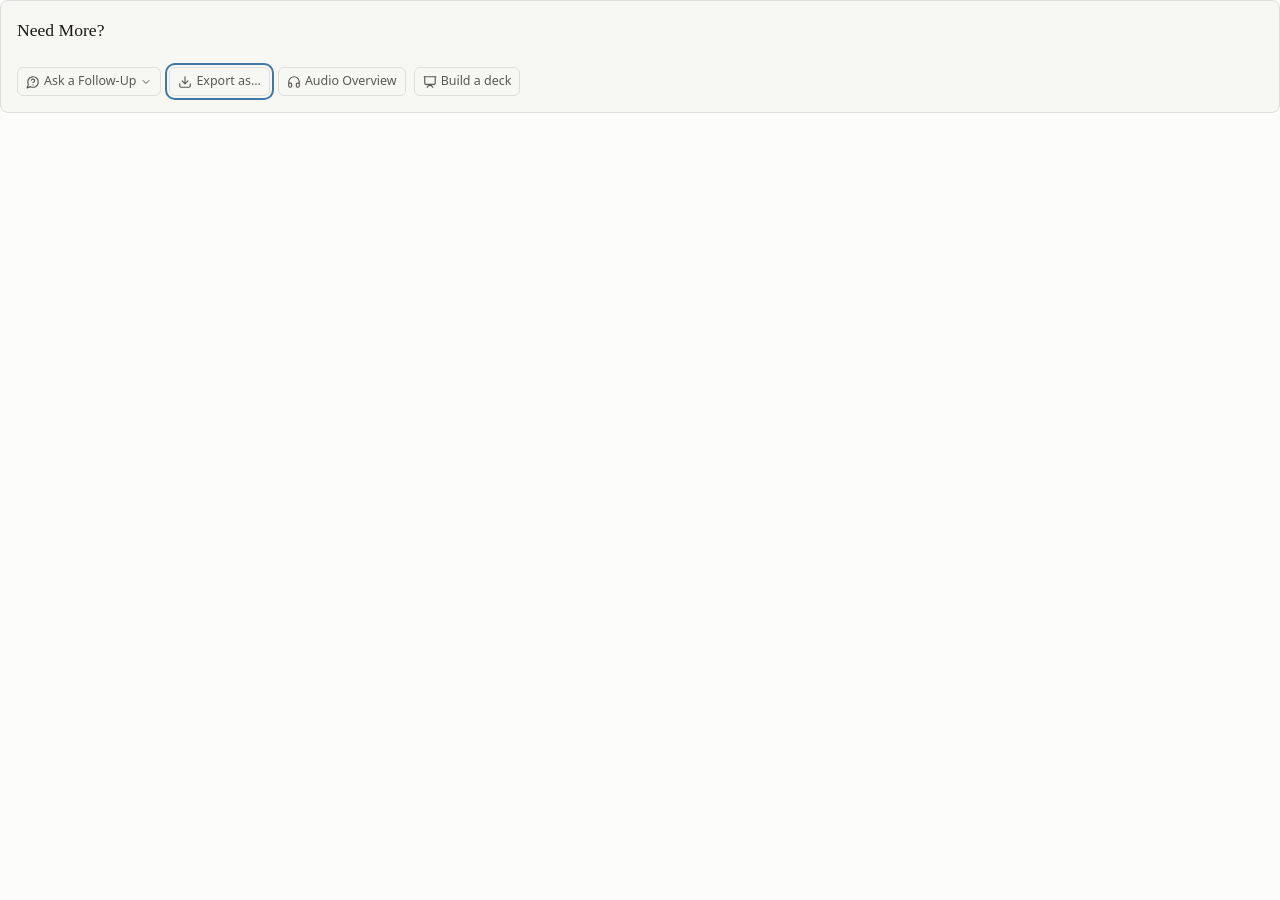
Test: ExportFocus › PDF capability on keeps template picker and opener return
Press Enter
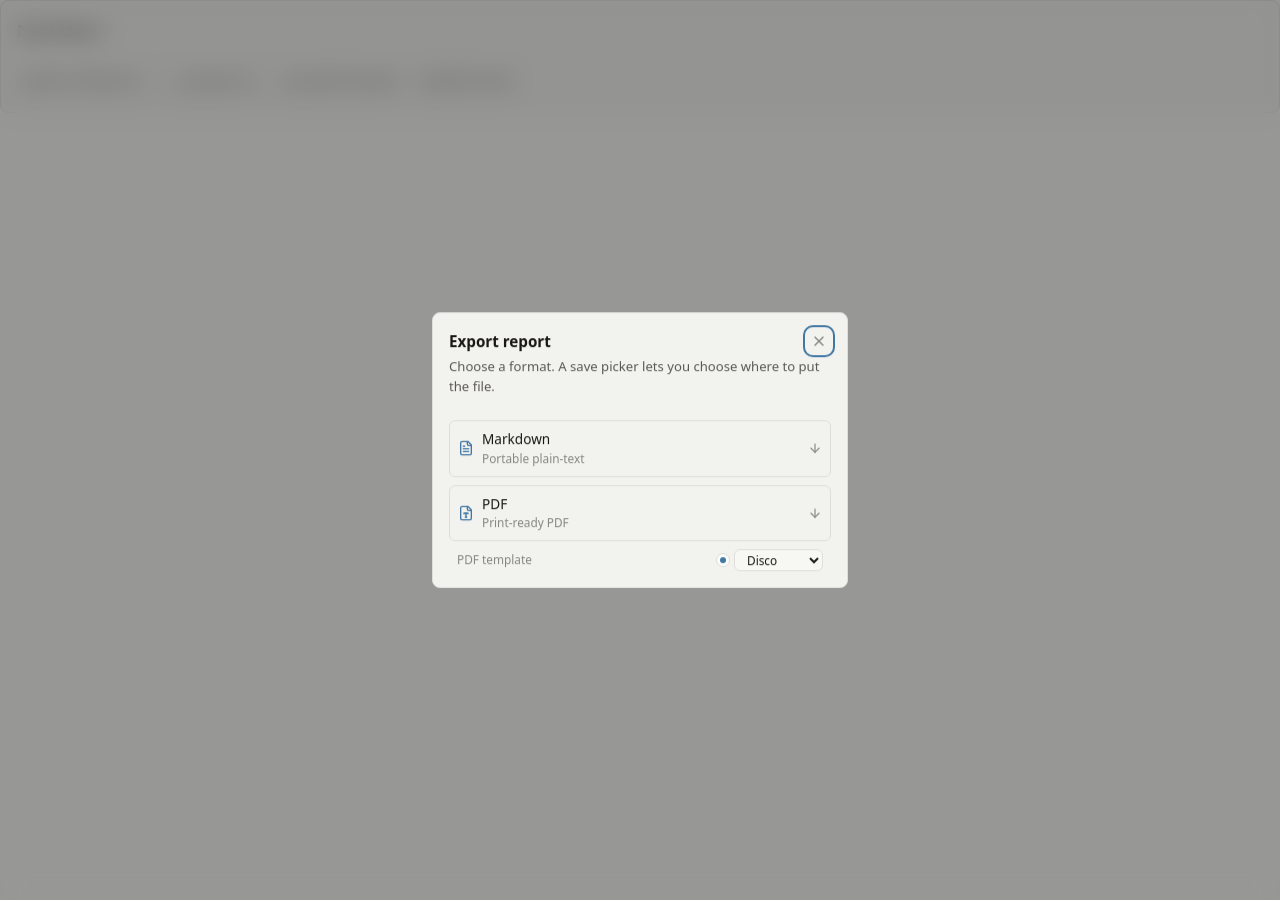
Check: the button "PDF Print-ready PDF" is enabled, box [449, 485, 831, 541]
Check: the dropdown labelled "PDF template" is shown, box [734, 549, 823, 571]
Click the button named "Close export dialog" at coordinates (819, 341), box [807, 329, 831, 353]
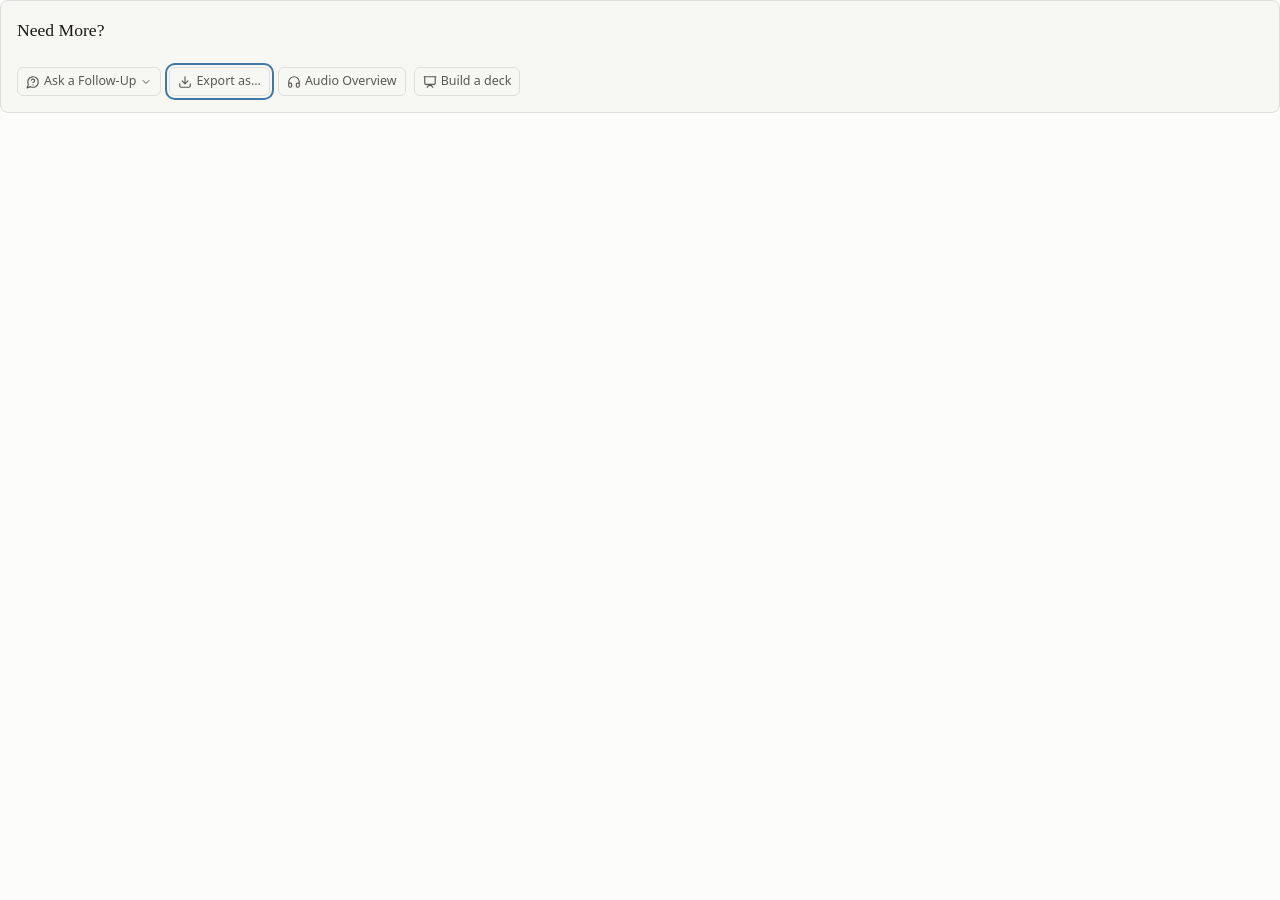
Check: the dialog is gone
